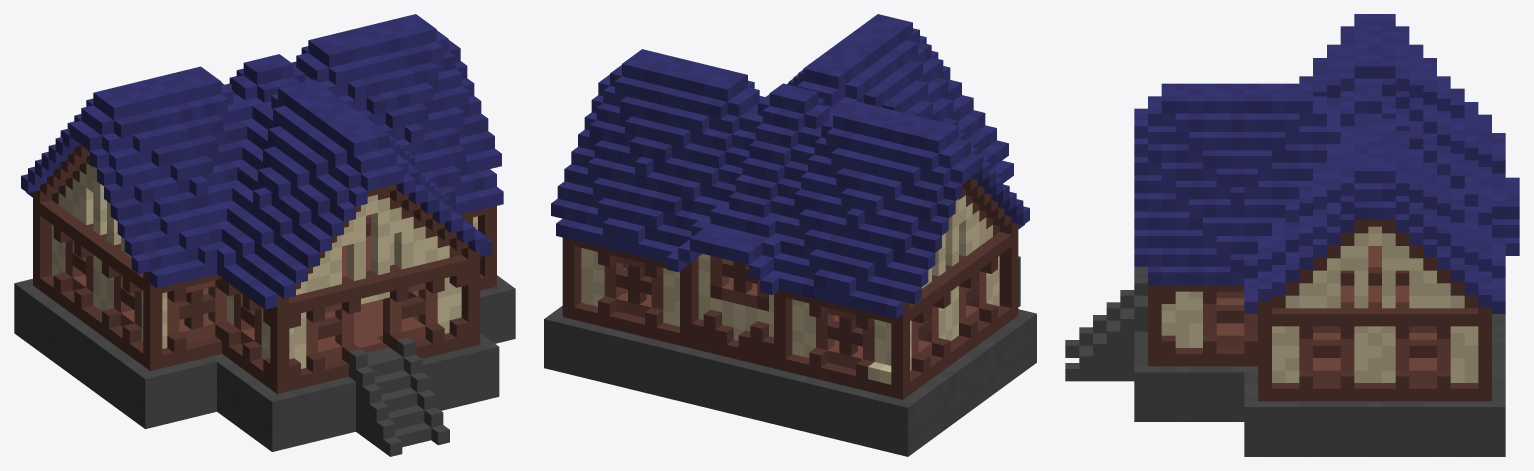
File: town_hall.obj
3 views of the same model, side by side, from view 1: azimuth 30°, elevation 25°; view 2: azimuth 150°, elevation 25°; view 3: azimuth 270°, elevation 25° (orthographic).
Bounding box in the file's own units: 3.1 × 2.2 × 3.3.
Materials: 1 (1 with a texture image).
